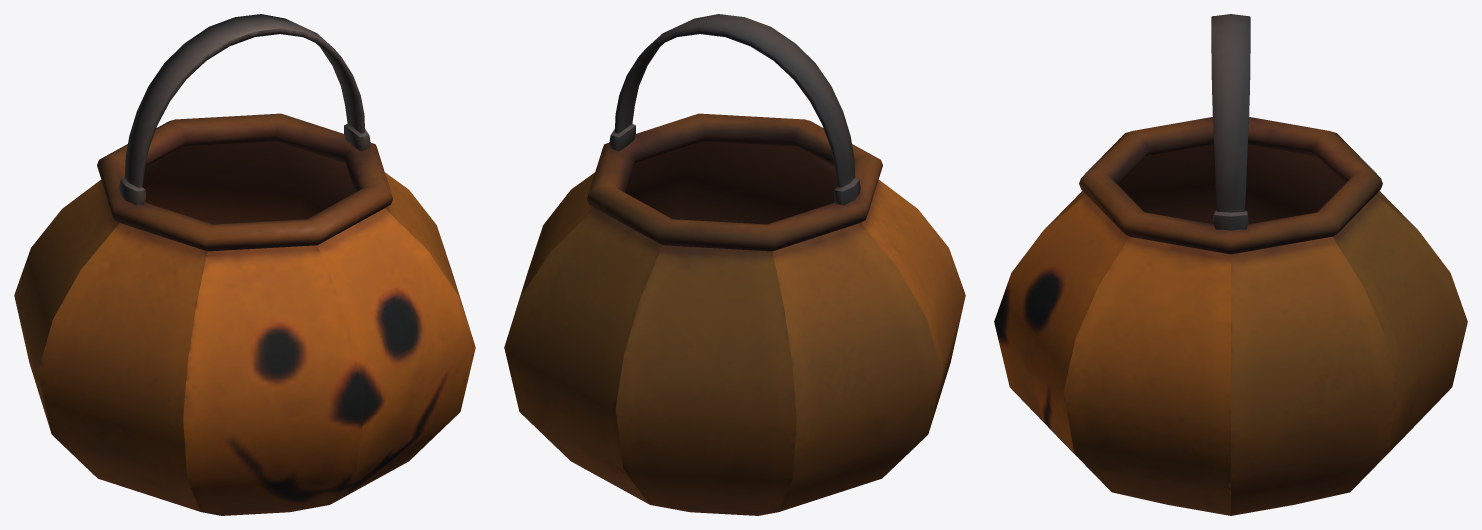
Rendered from Bucket.fbx.
3 views of the same model, side by side, from view 1: azimuth 30°, elevation 25°; view 2: azimuth 150°, elevation 25°; view 3: azimuth 270°, elevation 25° (orthographic).
Visible parts, largest first — view 1: Bucket; view 2: Bucket; view 3: Bucket.
Boxes of the visible parts, x1,y1,x2,y2 form: Bucket: (14, 14, 475, 515); Bucket: (504, 14, 965, 515); Bucket: (994, 14, 1467, 515).
Bounding box in the file's own units: 37.4 × 39.39 × 37.4.
